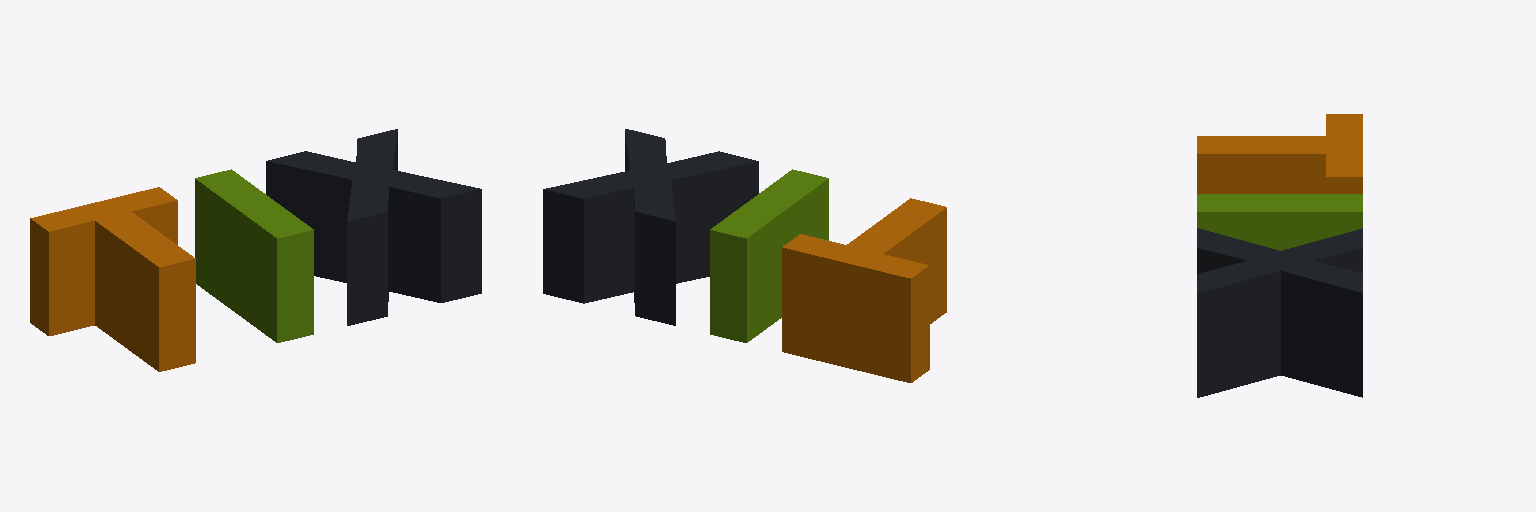
Rendered from coptix_slim.obj.
3 views of the same model, side by side, from view 1: azimuth 30°, elevation 25°; view 2: azimuth 150°, elevation 25°; view 3: azimuth 270°, elevation 25° (orthographic).
Visible parts, largest first — view 1: coptix_Mesh; view 2: coptix_Mesh; view 3: coptix_Mesh.
Part boxes in pixels (left/top/right/bottom): coptix_Mesh: left=30, top=129, right=481, bottom=371; coptix_Mesh: left=543, top=129, right=946, bottom=382; coptix_Mesh: left=1197, top=114, right=1362, bottom=397.
Bounding box in the file's own units: 2.11 × 0.5738 × 0.8205.